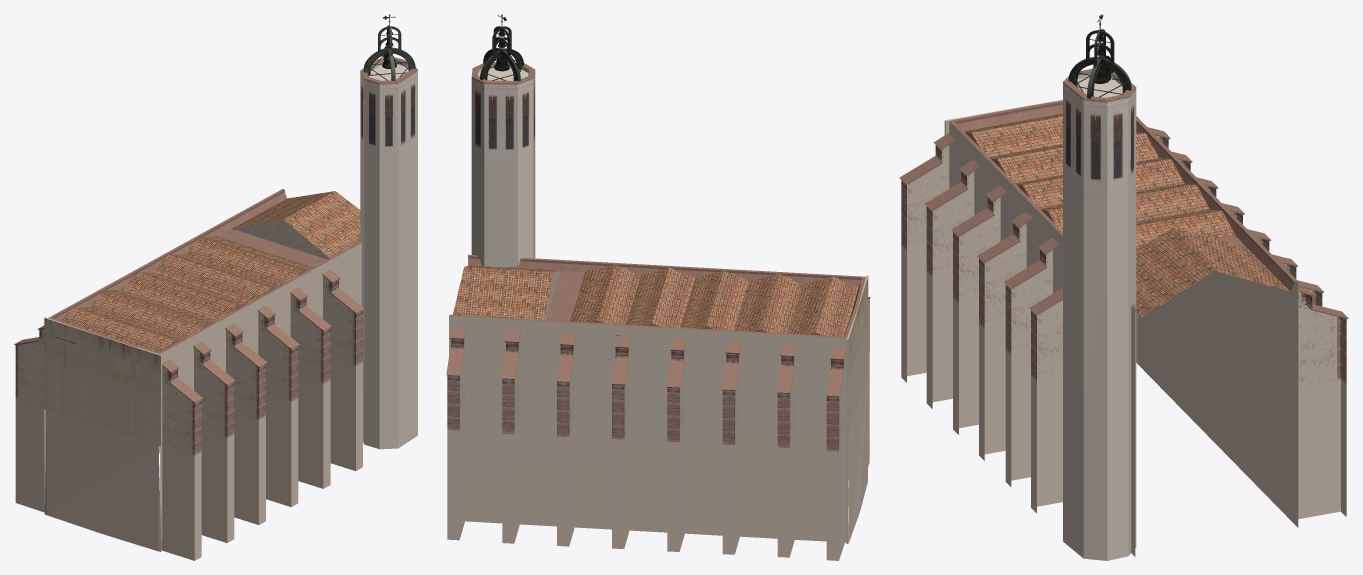
Rendered from catedral_fondo.fbx.
The picture shows the model from 3 angles, left to right: view 1: azimuth 30°, elevation 25°; view 2: azimuth 150°, elevation 25°; view 3: azimuth 270°, elevation 25°; orthographic projection. The views are drawn at different scales.
Visible parts, largest first — view 1: polySurface1383, polySurface1357, polySurface1384, polySurface1349, polySurface1347, polySurface1346, polySurface1345, polySurface1348, polySurface1385; view 2: polySurface1383, polySurface1357, polySurface1385, polySurface1352, polySurface1351, polySurface1350, polySurface1356, polySurface1355, polySurface1354, polySurface1353; view 3: polySurface1383, polySurface1357, polySurface1350, polySurface1349, polySurface1347, polySurface1345, polySurface1348, polySurface1384, polySurface1346, polySurface1358.
Part boxes in pixels (x1=…): polySurface1383: x1=44, y1=189, x2=361, y2=551; polySurface1357: x1=360, y1=57, x2=417, y2=449; polySurface1384: x1=161, y1=359, x2=203, y2=560; polySurface1349: x1=193, y1=341, x2=235, y2=542; polySurface1347: x1=257, y1=305, x2=299, y2=506; polySurface1346: x1=290, y1=287, x2=331, y2=488; polySurface1345: x1=322, y1=269, x2=364, y2=470; polySurface1348: x1=225, y1=323, x2=267, y2=524; polySurface1385: x1=14, y1=325, x2=44, y2=512; polySurface1383: x1=449, y1=254, x2=868, y2=543; polySurface1357: x1=471, y1=62, x2=535, y2=267; polySurface1385: x1=825, y1=347, x2=845, y2=560; polySurface1352: x1=556, y1=333, x2=575, y2=546; polySurface1351: x1=501, y1=330, x2=520, y2=543; polySurface1350: x1=446, y1=326, x2=465, y2=540; polySurface1356: x1=776, y1=344, x2=795, y2=557; polySurface1355: x1=721, y1=341, x2=740, y2=554; polySurface1354: x1=666, y1=338, x2=685, y2=551; polySurface1353: x1=611, y1=335, x2=630, y2=548; polySurface1383: x1=944, y1=99, x2=1298, y2=556; polySurface1357: x1=1063, y1=69, x2=1136, y2=560; polySurface1350: x1=1298, y1=286, x2=1348, y2=519; polySurface1349: x1=925, y1=159, x2=981, y2=408; polySurface1347: x1=977, y1=211, x2=1033, y2=460; polySurface1345: x1=1029, y1=288, x2=1062, y2=513; polySurface1348: x1=951, y1=185, x2=1007, y2=434; polySurface1384: x1=899, y1=133, x2=955, y2=382; polySurface1346: x1=1003, y1=238, x2=1058, y2=486; polySurface1358: x1=1068, y1=56, x2=1131, y2=93.
Size of the model in its own units: 4921 by 5288 by 4060.
